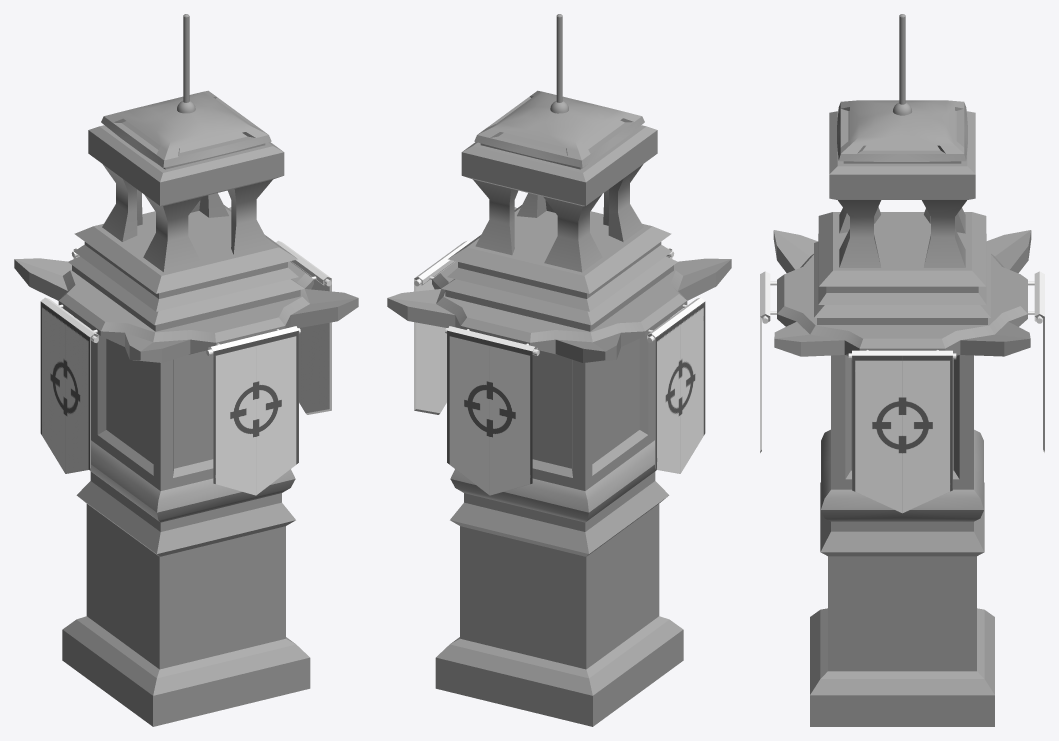
File: SniperTower.fbx
3 views of the same model, side by side, from view 1: azimuth 30°, elevation 25°; view 2: azimuth 150°, elevation 25°; view 3: azimuth 270°, elevation 25° (orthographic). The views are drawn at different scales.
Parts seen in each view (by area): view 1: pCube6, pPlane5, pPlane4, pCylinder2; view 2: pCube6, pPlane5, pPlane4, pCylinder2; view 3: pCube6, pPlane4, pPlane5, pCylinder2.
Part boxes in pixels (x1,y1,x2,y2): pCube6: [14, 90, 358, 726]; pPlane5: [73, 247, 298, 495]; pPlane4: [40, 240, 331, 473]; pCylinder2: [183, 14, 189, 102]; pCube6: [387, 90, 731, 726]; pPlane5: [447, 247, 672, 495]; pPlane4: [414, 240, 705, 473]; pCylinder2: [556, 14, 562, 102]; pCube6: [773, 100, 1031, 726]; pPlane4: [852, 350, 952, 513]; pPlane5: [760, 271, 1044, 452]; pCylinder2: [899, 14, 905, 104].
Bounding box in the file's own units: 8.13 × 21.22 × 8.13.
